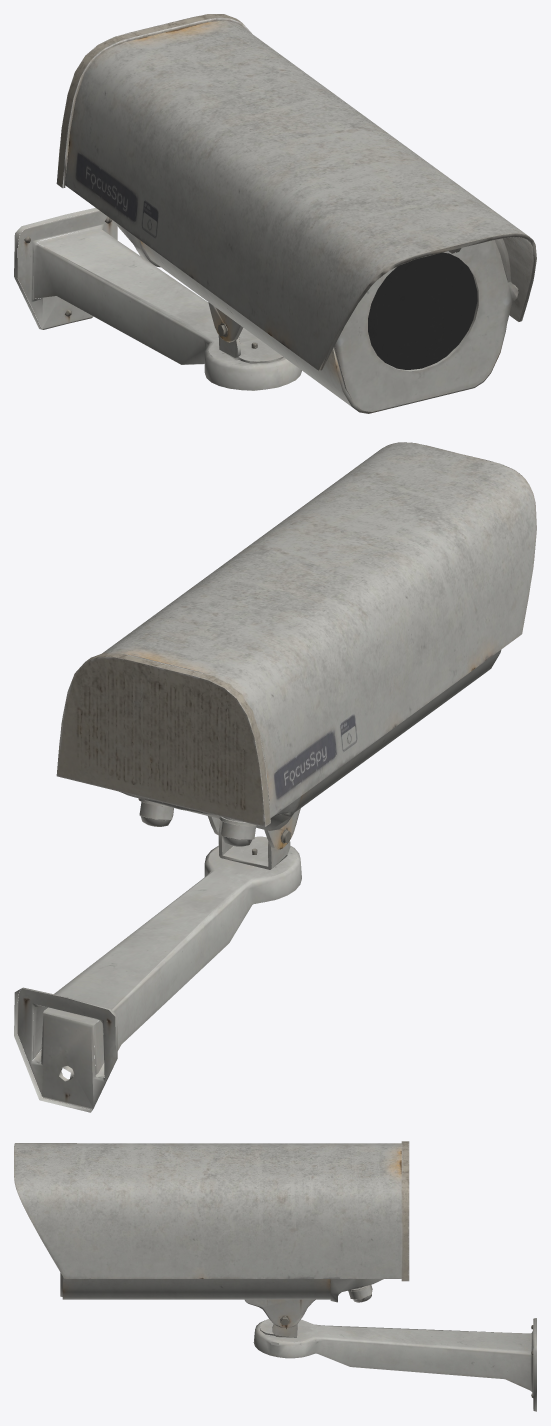
File: security_camera_01_1k.gltf
3 views of the same model, one above another, from view 1: azimuth 30°, elevation 25°; view 2: azimuth 150°, elevation 25°; view 3: azimuth 270°, elevation 25° (orthographic). The views are drawn at different scales.
Parts seen in each view (by area): view 1: security_camera_01; view 2: security_camera_01; view 3: security_camera_01.
Part boxes in pixels (<box>): security_camera_01: <box>14,14,536,413</box>; security_camera_01: <box>14,442,536,1112</box>; security_camera_01: <box>14,1141,536,1411</box>.
Bounding box in the file's own units: 0.1695 × 0.286 × 0.5537.
